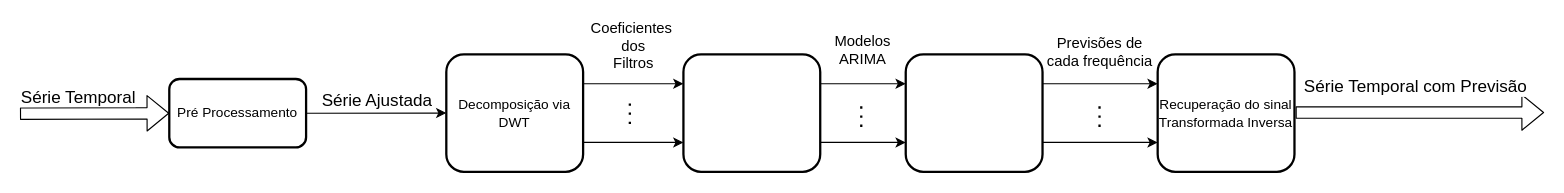
Some shapes in this 1564 by 193 pixel diagram are drawn without their labels. Here are the shapes that lost their labels. From the top down, the centre of each, then its label:
pixel 751 112: Seleção de coeficientes (ARIMA)
pixel 973 112: Previsão de cada série da decomposição
